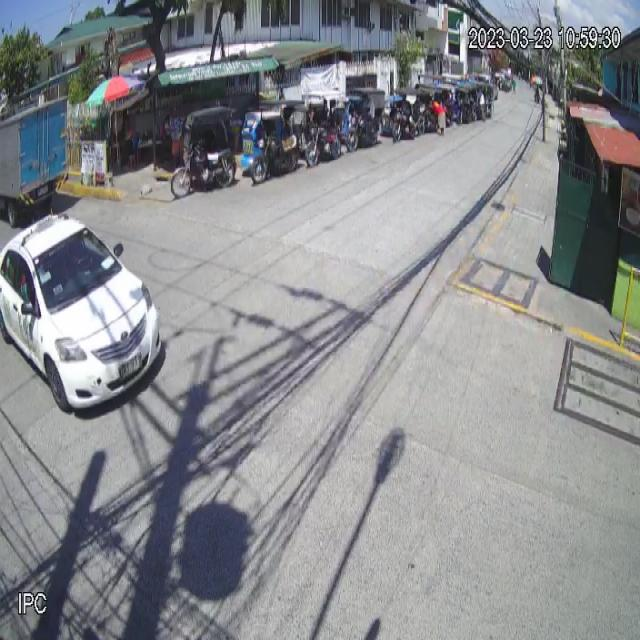Car: (0, 211, 164, 412)
Truck: (0, 92, 67, 227)
